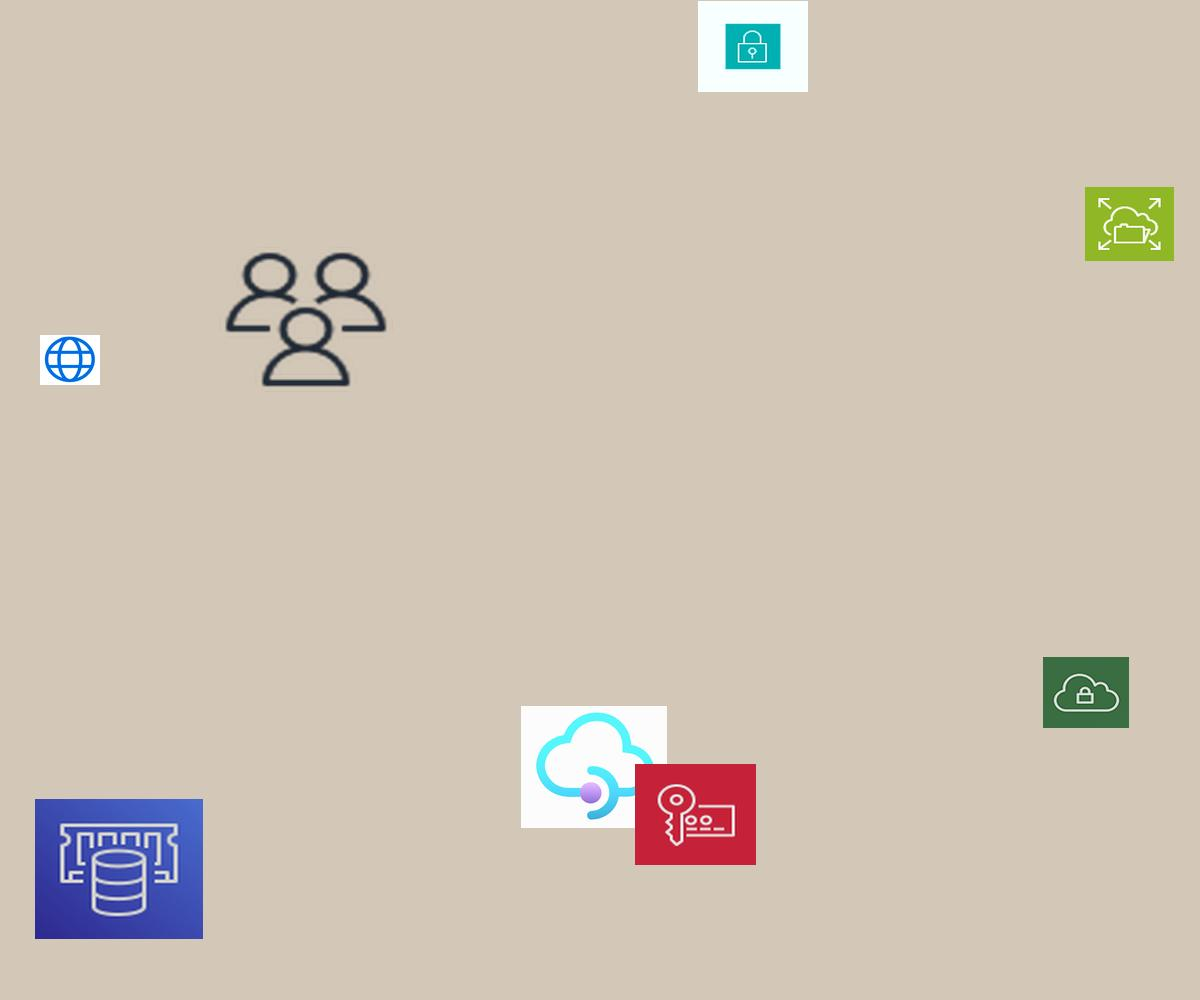AWS-EFS: (1085, 187, 1174, 261)
AWS-ElastiCache: (35, 799, 203, 939)
AWS-Key-Management-Service: (635, 764, 756, 865)
AWS-Private-subnet: (698, 1, 808, 92)
AWS-Private_vpc: (1043, 657, 1129, 728)
AWS-Res_Users: (219, 247, 393, 392)
Azure_api_gateway: (521, 706, 667, 828)
Azure_http: (40, 335, 100, 385)
